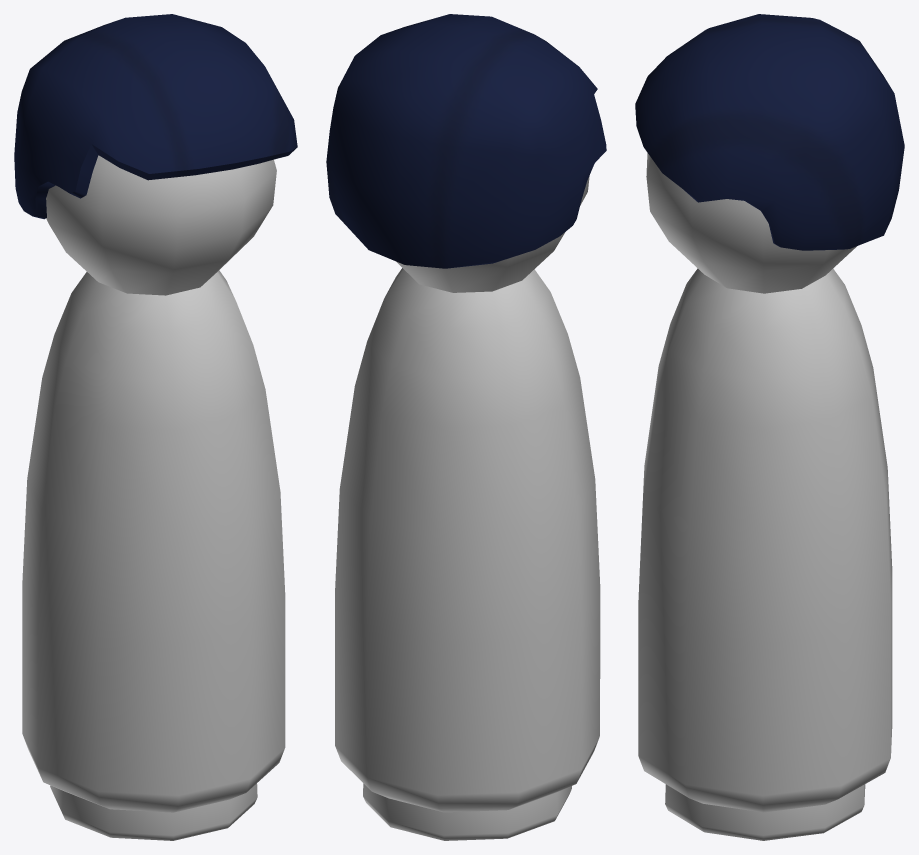
Rendered from Peg_Dress_Short_BlackHair.fbx.
The picture shows the model from 3 angles, left to right: view 1: azimuth 30°, elevation 25°; view 2: azimuth 150°, elevation 25°; view 3: azimuth 270°, elevation 25°; orthographic projection.
Visible parts, largest first — view 1: Peg_Dress_Short_BlackHair; view 2: Peg_Dress_Short_BlackHair; view 3: Peg_Dress_Short_BlackHair.
Part boxes in pixels (x1,y1,x2,y2): Peg_Dress_Short_BlackHair: (14, 14, 297, 840); Peg_Dress_Short_BlackHair: (326, 14, 606, 840); Peg_Dress_Short_BlackHair: (635, 14, 904, 840).
Size of the model in its own units: 1.92 by 5.9 by 1.87.
